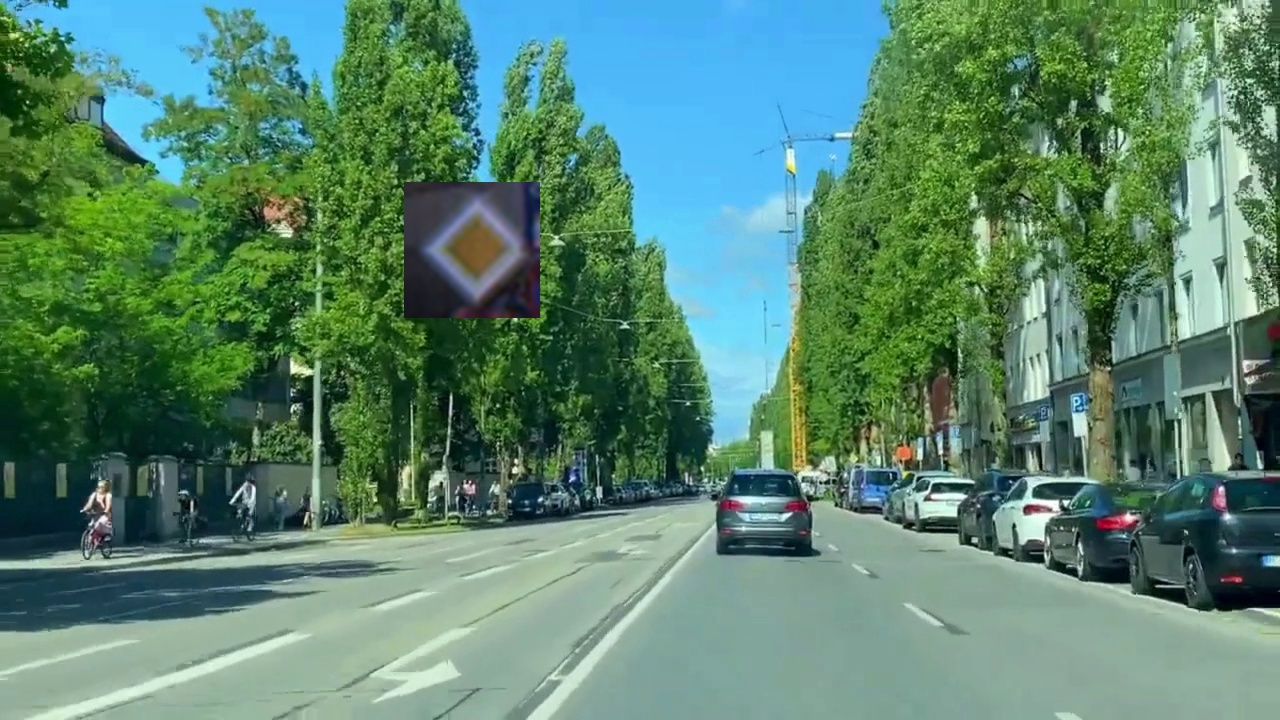Priority road: (404, 182, 540, 318)
